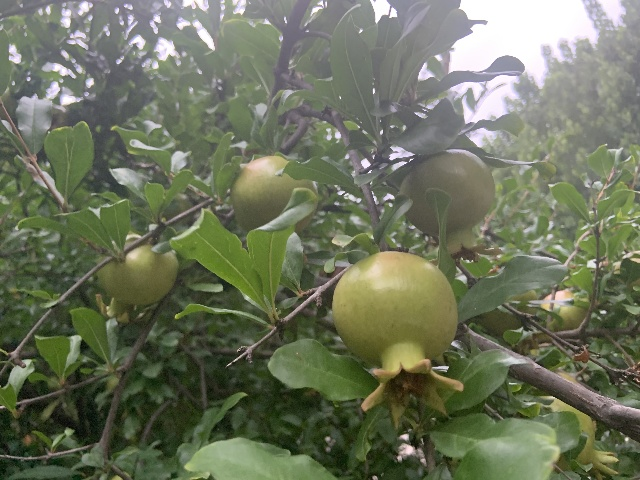mid-growth: (331, 250, 463, 430), (397, 150, 501, 261), (538, 395, 618, 480), (95, 243, 177, 323), (230, 155, 314, 232)
